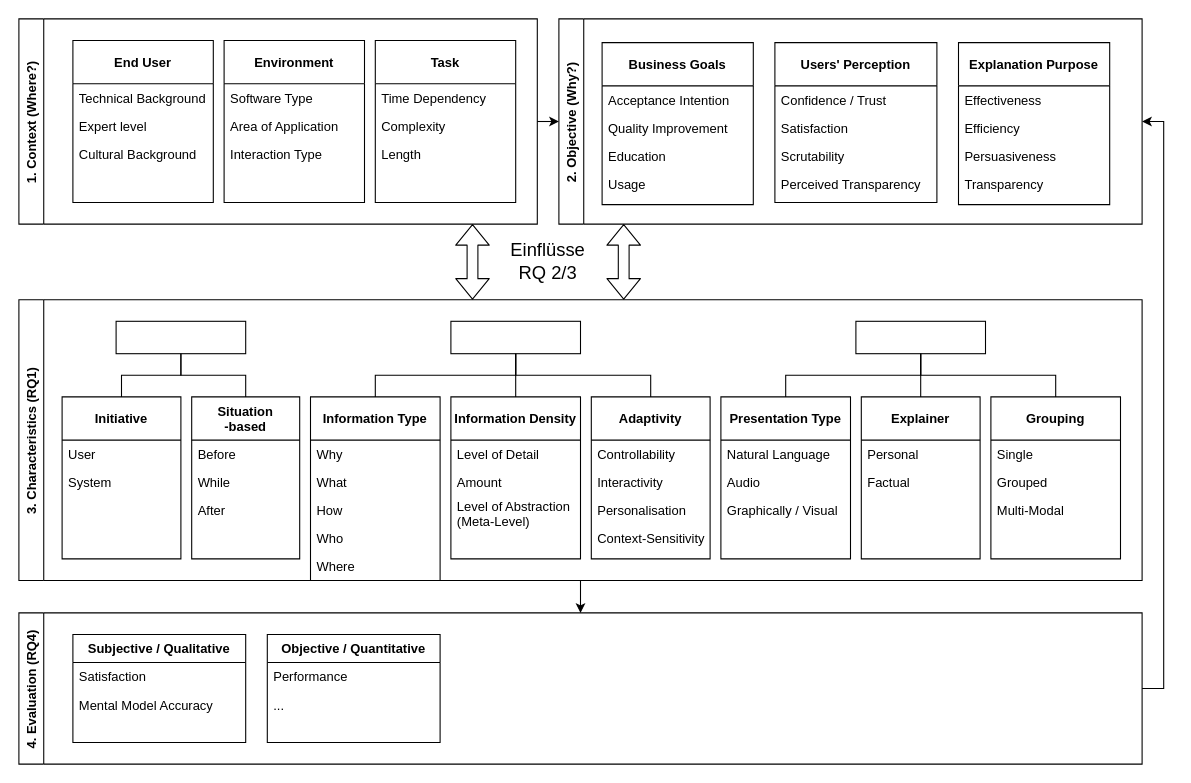
Image size: 1191x783. Some labels were removed from this diagram. The shapes that lost their labels are listed below. From the top down, each one's centre as x and y in pixels, then its label:
At [180,337]: "Demand (When?)".
At [515,337]: "Content (What?)".
At [920,337]: "Presentation (How?)".
